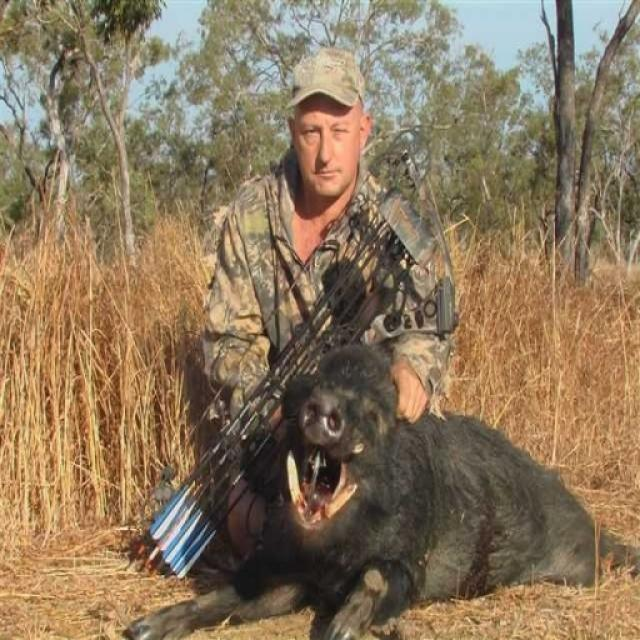pig: (231, 341, 640, 632)
